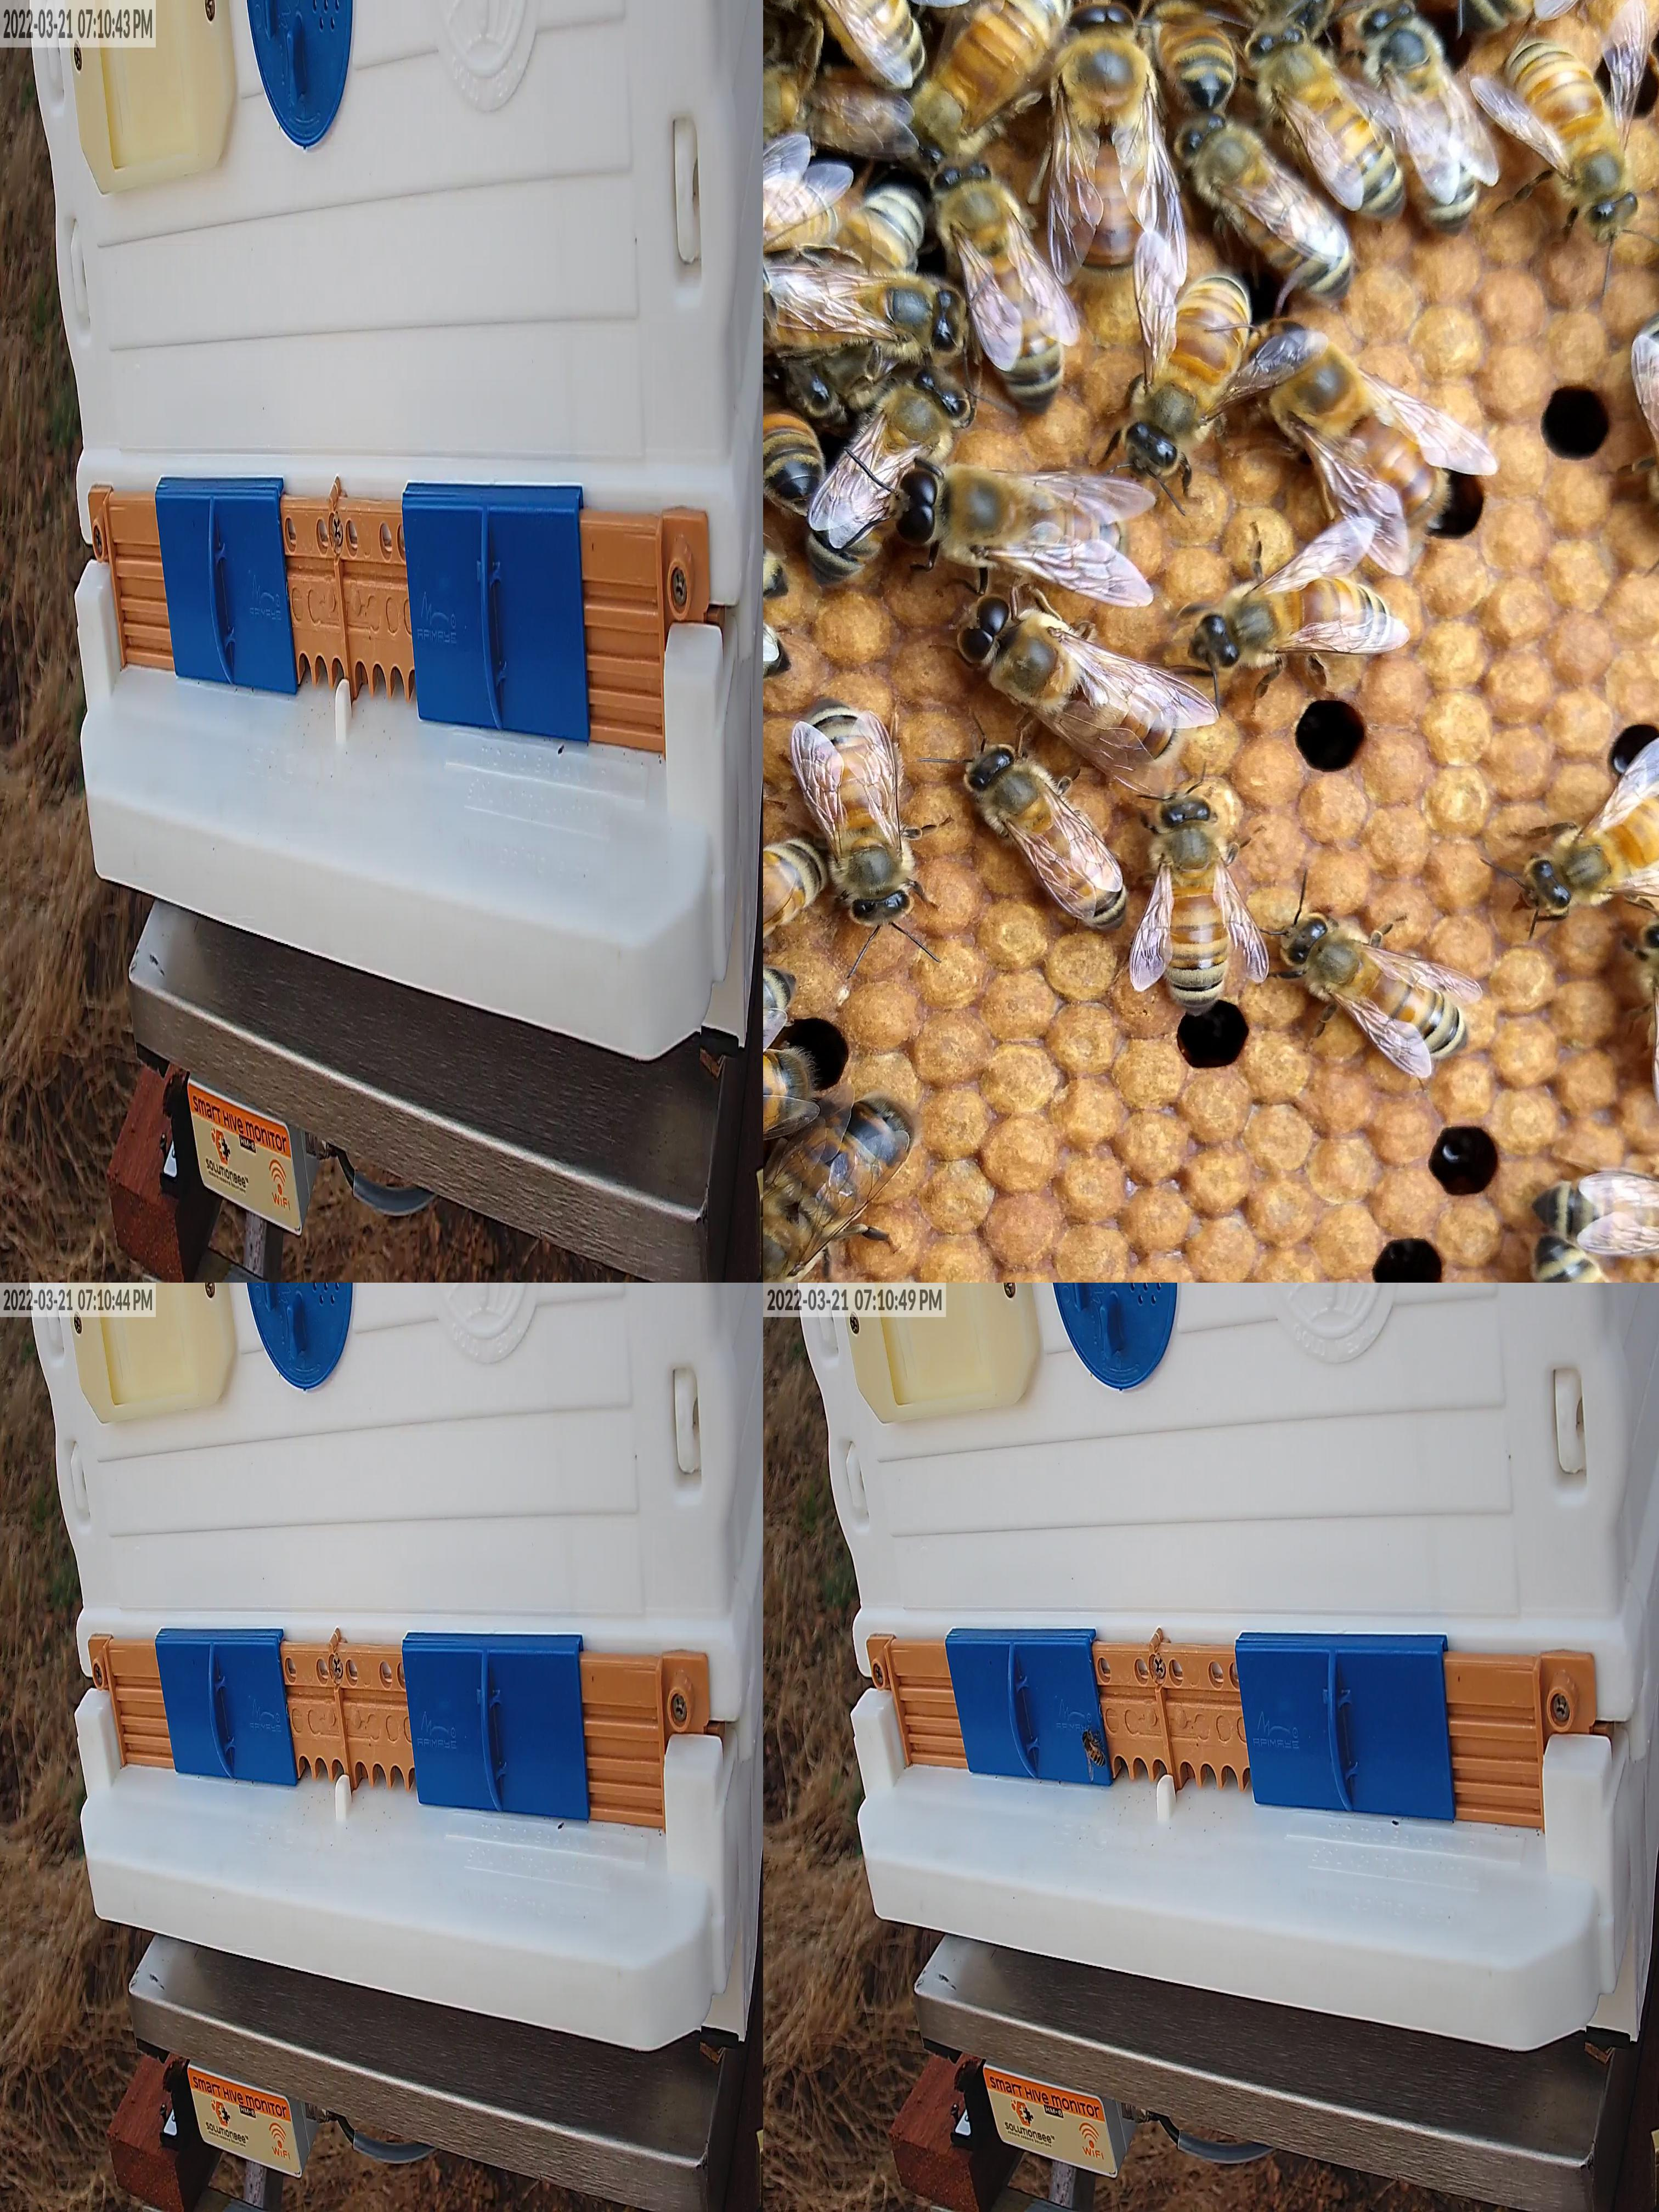bee: (932, 164, 1066, 409), (812, 373, 960, 583), (1178, 117, 1349, 291), (962, 749, 1129, 925), (1251, 26, 1405, 214), (1358, 0, 1476, 233), (795, 704, 913, 925), (910, 0, 1065, 164), (1129, 273, 1249, 472), (1509, 40, 1638, 225), (1290, 921, 1466, 1055), (1195, 578, 1392, 665), (1152, 801, 1230, 1012), (1528, 782, 1659, 904), (812, 186, 927, 322), (763, 277, 964, 352), (763, 0, 924, 84), (763, 64, 904, 150), (800, 314, 922, 402), (1535, 1172, 1659, 1252), (763, 185, 838, 312), (763, 841, 831, 975), (1154, 0, 1237, 103), (763, 378, 824, 507), (1459, 0, 1654, 33), (1636, 315, 1659, 536), (1148, 0, 1328, 26), (1534, 1238, 1635, 1282), (763, 968, 802, 1057), (763, 519, 788, 599), (1082, 1733, 1105, 1766)
drone: (1256, 319, 1438, 528), (962, 599, 1176, 761), (763, 1099, 913, 1282), (1060, 2, 1157, 268), (899, 465, 1126, 570)
